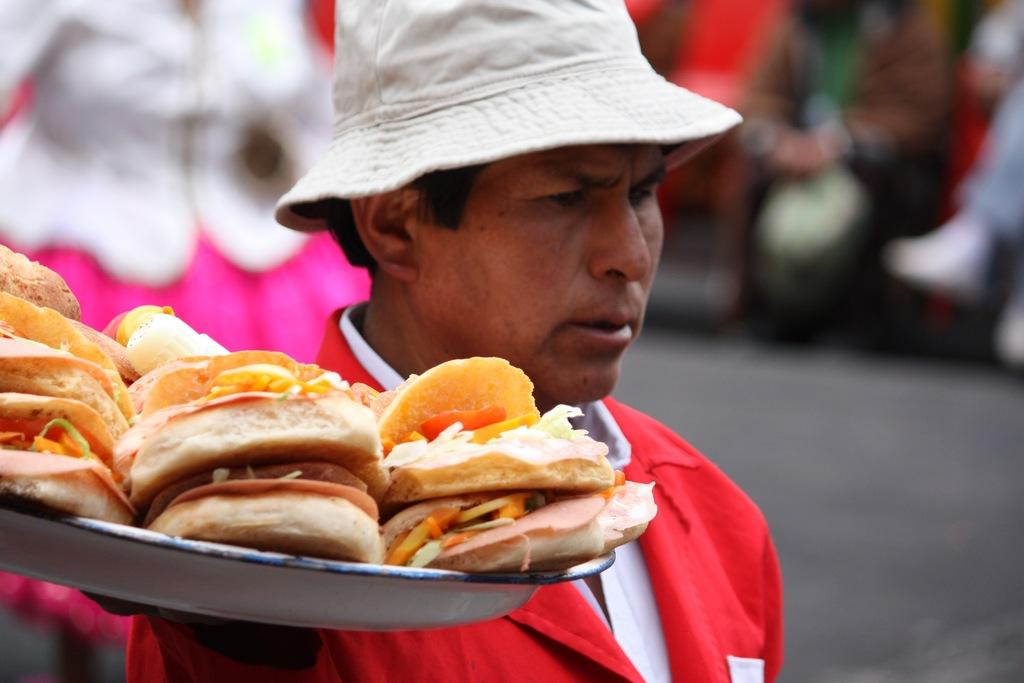Hat: (271, 0, 742, 235)
